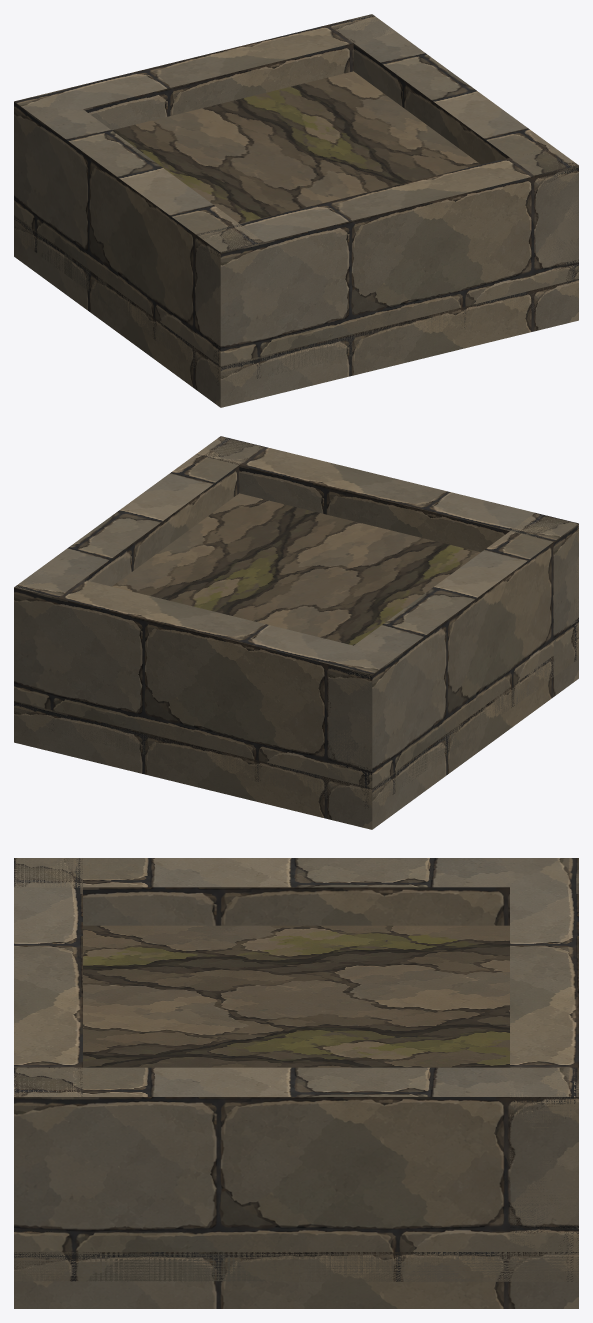
Rendered from planter.glb.
3 renders of one model, top to bottom at view 1: azimuth 30°, elevation 25°; view 2: azimuth 150°, elevation 25°; view 3: azimuth 270°, elevation 25°, orthographic. The views are drawn at different scales.
Parts seen in each view (by area): view 1: planter; view 2: planter; view 3: planter.
Part boxes in pixels (x1,y1,x2,y2): planter: [14, 14, 578, 407]; planter: [14, 436, 578, 829]; planter: [14, 858, 578, 1308].
Size of the model in its own units: 1.8 by 0.745 by 1.8.
2 materials, 2 textured.
